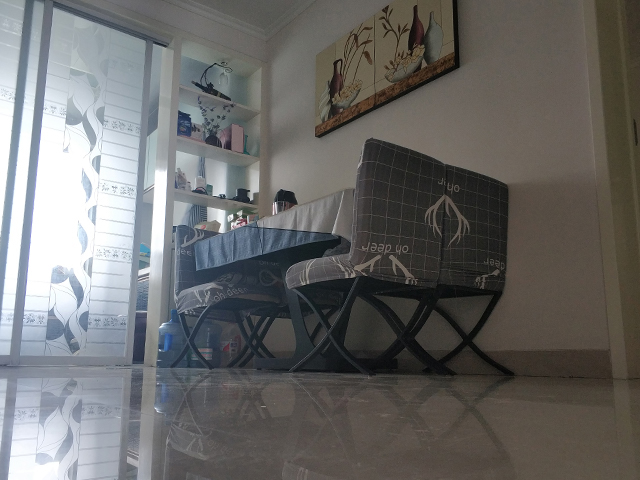stool: (286, 134, 518, 379), (168, 220, 242, 371)
table: (192, 182, 362, 374)
